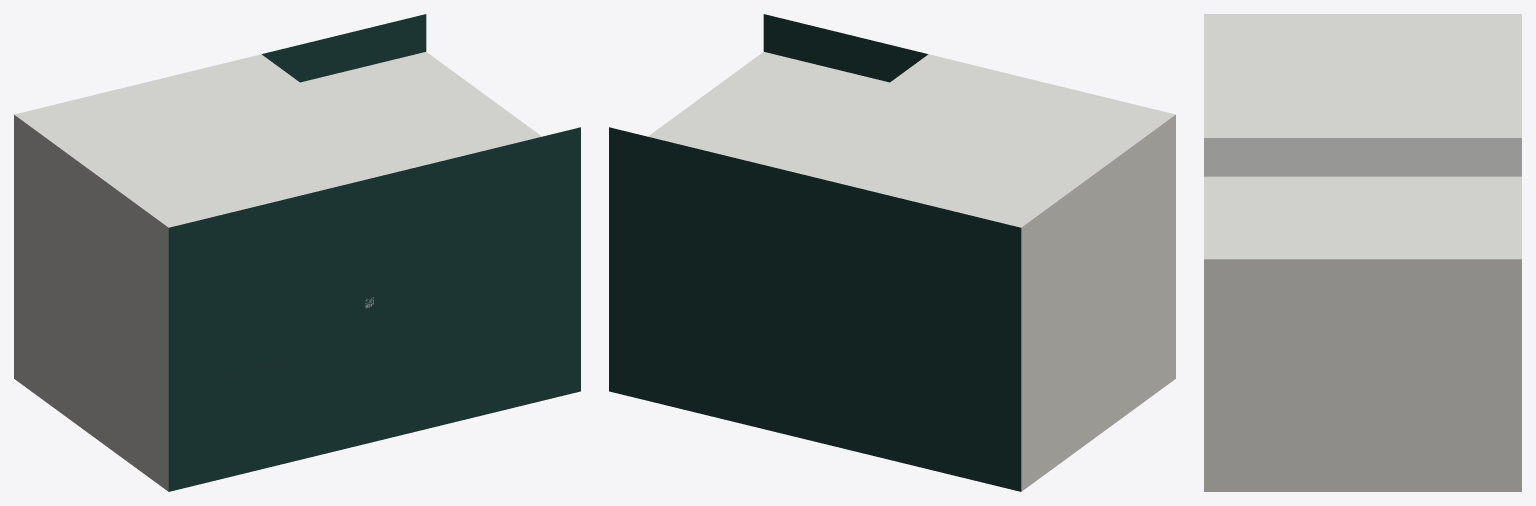
File: sauna-room.glb
3 views of the same model, side by side, from view 1: azimuth 30°, elevation 25°; view 2: azimuth 150°, elevation 25°; view 3: azimuth 270°, elevation 25° (orthographic). The views are drawn at different scales.
Visible parts, largest first — view 1: Wall_Left, Wall_Back, Ceiling_GreenRoom, Ceiling_Alcove, Wall_Right; view 2: Wall_Right, Wall_Back, Ceiling_GreenRoom, Ceiling_Alcove, Wall_Left; view 3: Wall_End, Ceiling_GreenRoom, Ceiling_Alcove, Bulkhead_Soffit.
Boxes of the visible parts, x1,y1,x2,y2 form: Wall_Left: [168, 127, 580, 491]; Wall_Back: [14, 115, 168, 491]; Ceiling_GreenRoom: [14, 54, 415, 227]; Ceiling_Alcove: [300, 52, 541, 167]; Wall_Right: [261, 14, 426, 82]; Wall_Right: [609, 127, 1021, 491]; Wall_Back: [1021, 115, 1175, 491]; Ceiling_GreenRoom: [774, 54, 1175, 227]; Ceiling_Alcove: [648, 52, 889, 167]; Wall_Left: [763, 14, 928, 82]; Wall_End: [1204, 259, 1521, 491]; Ceiling_GreenRoom: [1204, 14, 1521, 137]; Ceiling_Alcove: [1204, 176, 1521, 259]; Bulkhead_Soffit: [1204, 138, 1521, 176].
Bounding box in the file's own units: 4 × 2.45 × 2.6.
